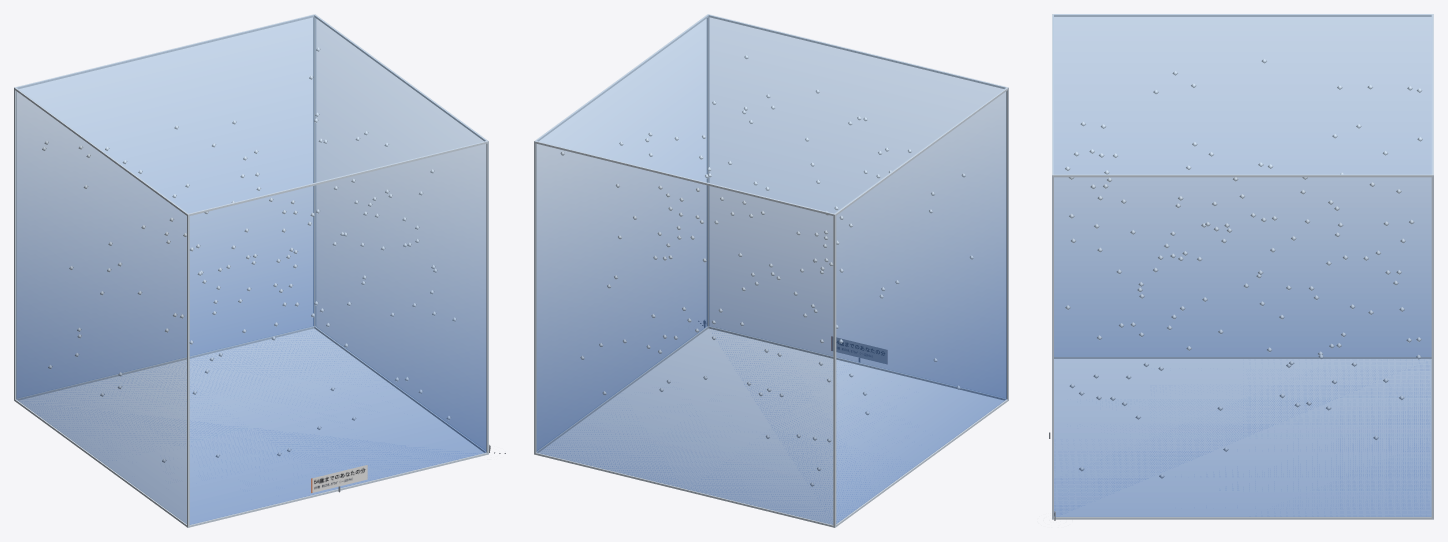
The model's file is cube_life_54.glb.
3 views of the same model, side by side, from view 1: azimuth 30°, elevation 25°; view 2: azimuth 150°, elevation 25°; view 3: azimuth 270°, elevation 25° (orthographic). The views are drawn at different scales.
Parts seen in each view (by area): view 1: co2, edge, dots, label; view 2: co2, edge, dots, label; view 3: co2, edge, dots.
Boxes of the visible parts, x1,y1,x2,y2 form: co2: [16, 15, 486, 524]; edge: [14, 14, 488, 527]; dots: [42, 47, 456, 462]; label: [311, 465, 367, 492]; co2: [536, 15, 1006, 524]; edge: [534, 14, 1008, 527]; dots: [560, 55, 973, 486]; label: [831, 336, 887, 363]; co2: [1053, 14, 1432, 516]; edge: [1052, 14, 1433, 519]; dots: [1065, 58, 1422, 478].
Size of the model in its own units: 67.65 by 63.9 by 66.75.
8 materials, 3 textured.
